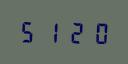five: (18, 19, 39, 43)
one: (40, 19, 61, 43)
two: (62, 19, 83, 44)
zero: (84, 20, 105, 44)
